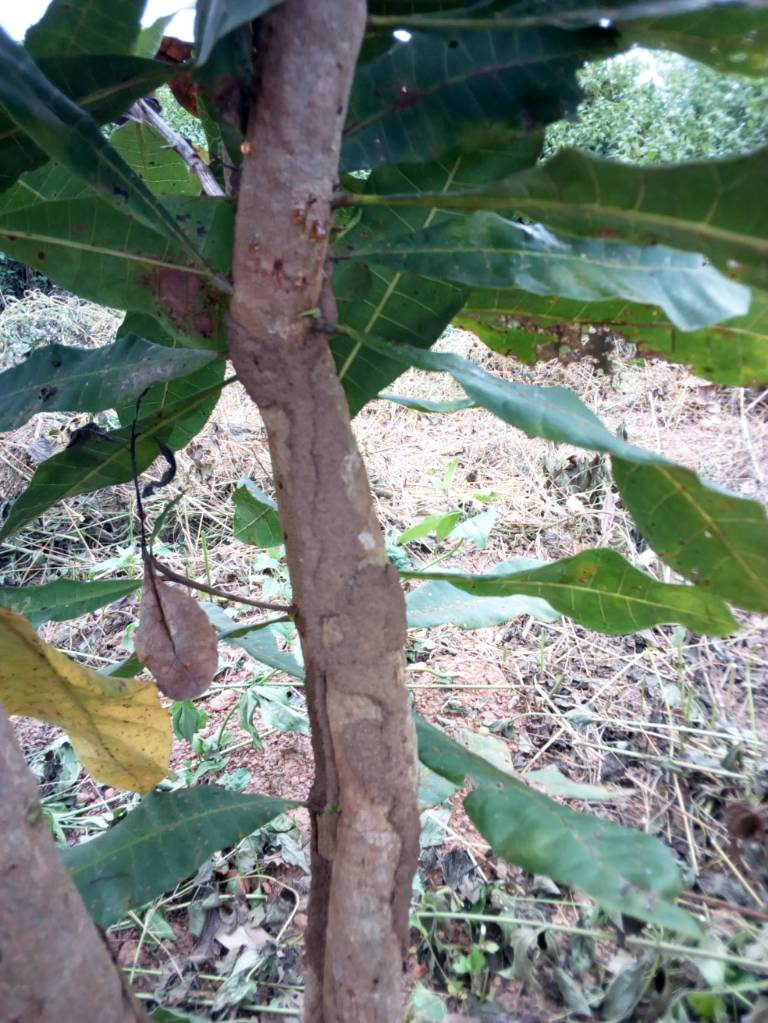Termites: (275, 327, 425, 955)
